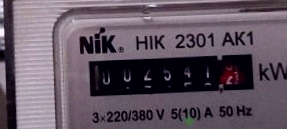0: (98, 65, 112, 86), (119, 62, 132, 83)
1: (200, 57, 212, 80)
2: (139, 60, 154, 83)
4: (180, 58, 192, 79)
5: (159, 59, 173, 83)
6: (223, 72, 234, 85)
screen: (75, 43, 266, 104)
